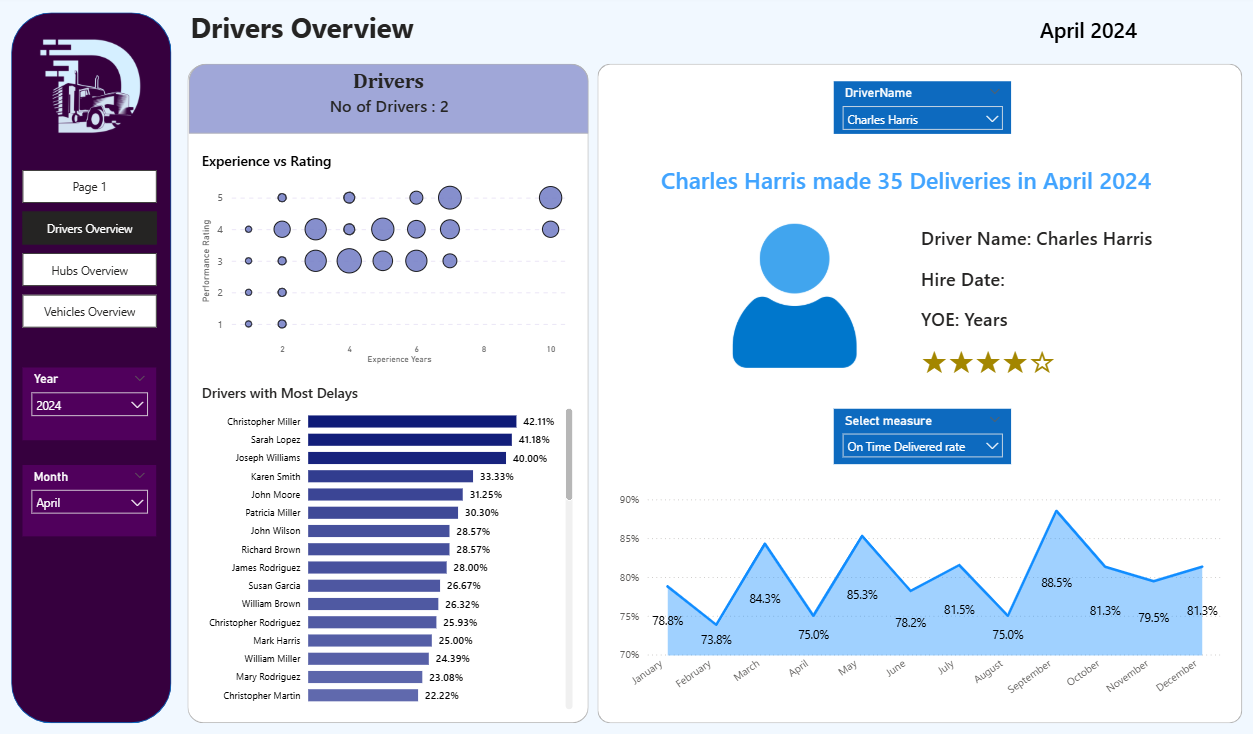

This screenshot's page, from the dashboard's own definition file:
{"tool":"powerbi","page":{"name":"Drivers Overview ","canvas":[1450,850],"ordinal":1},"visuals":[{"type":"shape","box":[12.4,14,185,820.8],"z":0},{"type":"textbox","box":[214.5,4.7,531.6,68.4],"z":1000},{"type":"slicer","fields":{"Values":["Date Table.Year"]},"box":[26.3,424.7,154.7,84],"z":2000},{"type":"slicer","fields":{"Values":["Date Table.Month"]},"box":[26.3,536.7,154.7,82.3],"z":3000},{"type":"shape","box":[216.1,74.6,463.2,760.1],"z":4000},{"type":"shape","box":[217.6,73.1,461.7,80.8],"z":5000},{"type":"textbox","box":[373.1,73.1,152.3,38.9],"z":6000},{"type":"cardVisual","fields":{"Data":["Drivers.No of Drivers"]},"box":[363.7,93.3,234.7,56],"z":7000},{"type":"scatterChart","title":"Experience vs Rating","fields":{"X":["Drivers.Experience Years"],"Y":["Drivers.Performance Rating"],"Size":["Sum(Drivers.Experience Years)"]},"box":[228.5,174.1,438.4,250.3],"z":8000},{"type":"barChart","title":"Drivers with Most Delays","fields":{"Category":["Drivers.DriverName"],"Y":["Orders.Delayed Delivered Rate"]},"box":[228.5,441.5,438.4,382.4],"z":9000},{"type":"image","box":[26.3,32.9,159.7,141.6],"z":10000},{"type":"cardVisual","fields":{"Data":["Vehicles.Month Year"]},"box":[1183.6,0,233.8,67.5],"z":11000},{"type":"shape","box":[690.2,73.1,744.6,761.7],"z":12000},{"type":"slicer","fields":{"Values":["Drivers.DriverName"]},"box":[962.2,93.3,205.2,60.6],"z":13000},{"type":"cardVisual","fields":{"Data":["Drivers.Driver title"]},"box":[746.1,174.1,628,62.2],"z":14000},{"type":"cardVisual","fields":{"Data":["Drivers.Driver name Title","Drivers.Hiire Date Title","Drivers.YOE","Drivers.Star Rating"]},"box":[1046.2,236.3,309.3,217.6],"z":15000},{"type":"image","box":[811.4,258,213,166.3],"z":16000},{"type":"stackedAreaChart","fields":{"Y":["Orders.On Time Delivered rate"],"Category":["Date Table.Month"]},"box":[708.8,562.7,707.3,261.2],"z":17000},{"type":"slicer","fields":{"Values":["Select measure.Select measure"]},"box":[962.2,472.6,205.2,63.7],"z":18000},{"type":"pageNavigator","box":[26.4,195.9,155.4,185],"z":31000}]}

Visuals, with their boxes in screenshot pixels (x1, y1, x2, y2), scaled from the page's 1450x850 canvas onto the 1253x734 screenshot:
shape: (11, 12, 171, 721)
textbox: (185, 4, 645, 63)
slicer - Date Table.Year: (23, 367, 156, 439)
slicer - Date Table.Month: (23, 463, 156, 535)
shape: (187, 64, 587, 721)
shape: (188, 63, 587, 133)
textbox: (322, 63, 454, 97)
cardVisual - Drivers.No of Drivers: (314, 81, 517, 129)
"Experience vs Rating" scatterChart: (197, 150, 576, 366)
"Drivers with Most Delays" barChart: (197, 381, 576, 711)
image: (23, 28, 161, 151)
cardVisual - Vehicles.Month Year: (1023, 0, 1225, 58)
shape: (596, 63, 1240, 721)
slicer - Drivers.DriverName: (831, 81, 1009, 133)
cardVisual - Drivers.Driver title: (645, 150, 1187, 204)
cardVisual - Drivers.Driver name Title x Drivers.Hiire Date Title: (904, 204, 1171, 392)
image: (701, 223, 885, 366)
stackedAreaChart - Orders.On Time Delivered rate x Date Table.Month: (613, 486, 1224, 711)
slicer - Select measure.Select measure: (831, 408, 1009, 463)
pageNavigator: (23, 169, 157, 329)
